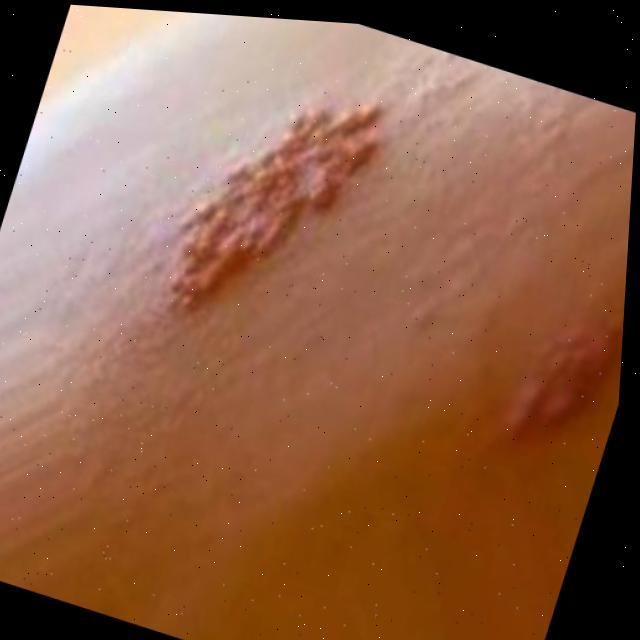Shingles: (134, 51, 397, 367), (518, 307, 620, 444)
